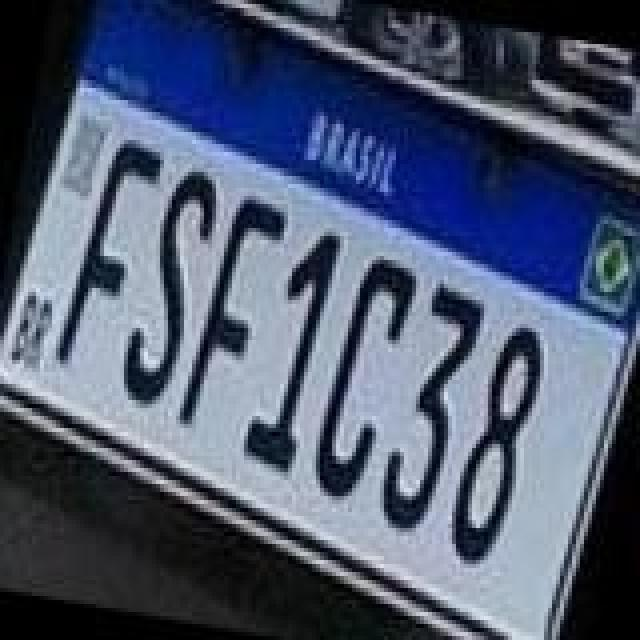1: (242, 220, 350, 476)
3: (372, 274, 492, 542)
8: (440, 316, 552, 572)
C: (306, 248, 422, 512)
F: (50, 132, 166, 380), (174, 188, 290, 436)
S: (112, 162, 224, 414)
